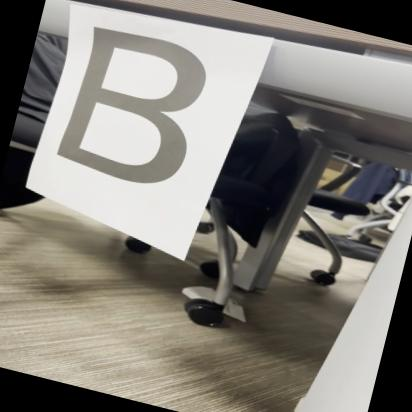seat: (47, 10, 229, 203)
